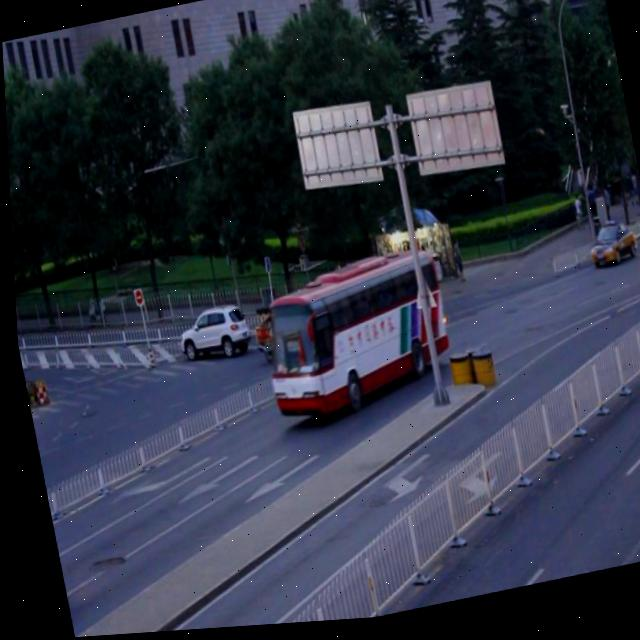car: (173, 305, 256, 376), (581, 221, 635, 276)
van: (253, 251, 455, 428)
